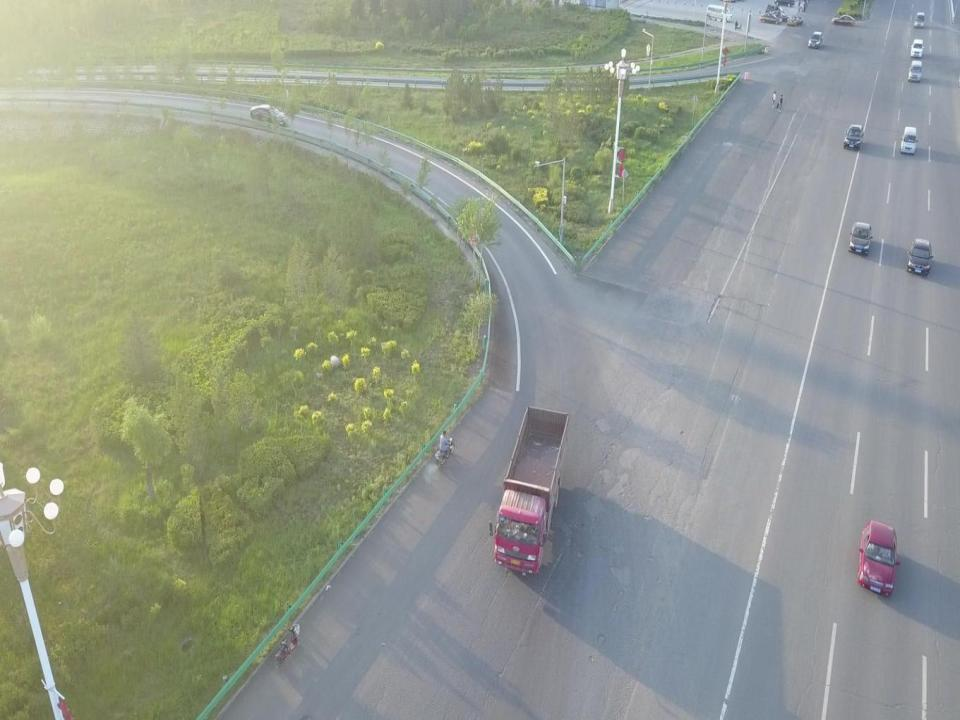car: (858, 518, 901, 598), (250, 103, 288, 130), (908, 237, 933, 277), (848, 221, 872, 255), (844, 123, 864, 149), (831, 14, 855, 25), (760, 11, 782, 23), (808, 31, 823, 48), (765, 4, 784, 17), (770, 10, 789, 22), (773, 0, 795, 8), (787, 15, 803, 25)
truck: (489, 404, 568, 573)
van: (901, 126, 918, 154), (707, 4, 733, 20), (908, 60, 922, 82), (911, 40, 924, 56), (914, 12, 926, 28)
